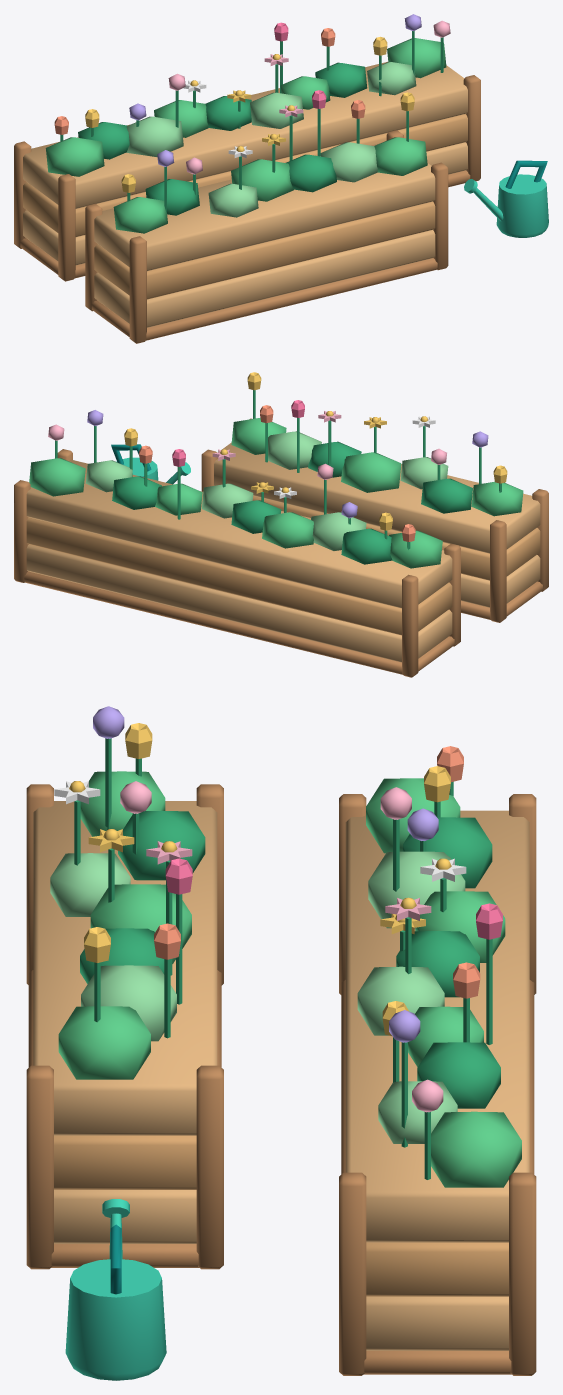
The model's file is rooftop_planter.glb.
The picture shows the model from 3 angles, top to bottom: view 1: azimuth 30°, elevation 25°; view 2: azimuth 150°, elevation 25°; view 3: azimuth 270°, elevation 25°; orthographic projection. The views are drawn at different scales.
Parts seen in each view (by area): view 1: RooftopPlanter; view 2: RooftopPlanter; view 3: RooftopPlanter.
Part boxes in pixels (<box>): RooftopPlanter: <box>14,14,548,343</box>; RooftopPlanter: <box>14,372,548,677</box>; RooftopPlanter: <box>26,706,536,1380</box>.
Bounding box in the file's own units: 2.09 × 0.7788 × 1.11.
